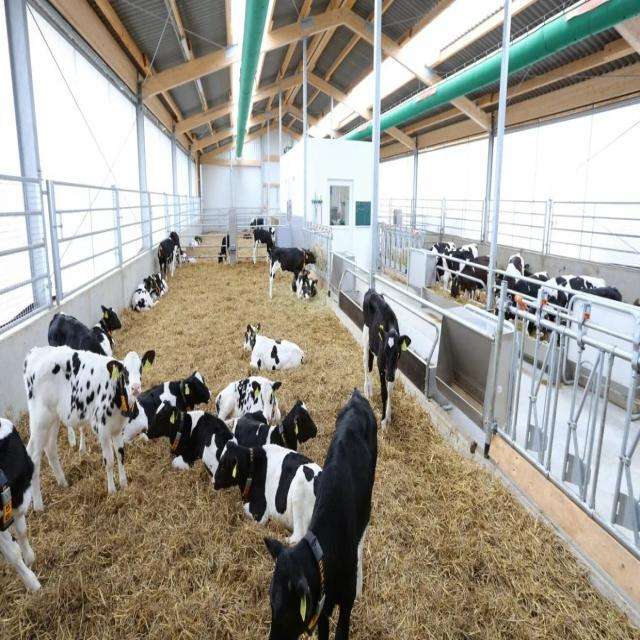cow: (263, 386, 378, 638), (22, 344, 139, 512), (212, 439, 323, 545), (47, 304, 121, 452), (145, 400, 237, 488), (117, 369, 210, 451), (362, 286, 411, 438), (0, 416, 41, 594), (231, 398, 317, 451), (47, 304, 121, 357), (214, 375, 282, 426), (243, 322, 304, 372), (267, 245, 316, 298), (130, 272, 168, 312), (252, 225, 276, 265), (157, 238, 178, 278), (291, 268, 317, 300), (168, 230, 185, 265), (217, 234, 230, 263)
